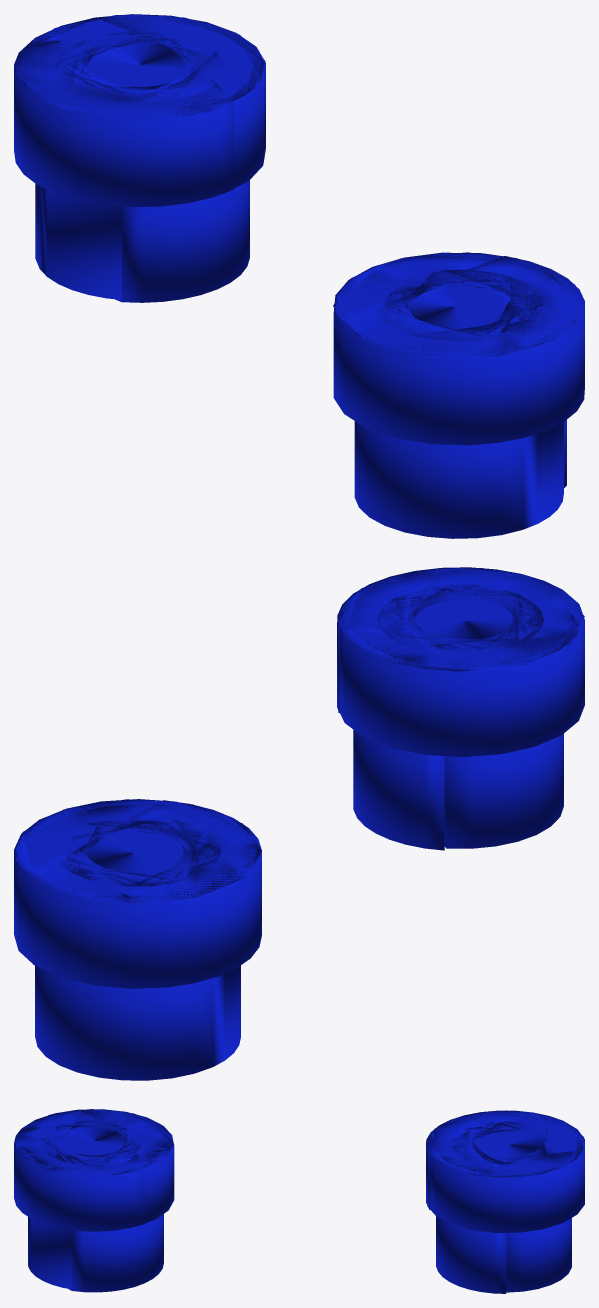
File: tuyeau_element_000069.obj
3 views of the same model, one above another, from view 1: azimuth 30°, elevation 25°; view 2: azimuth 150°, elevation 25°; view 3: azimuth 270°, elevation 25° (orthographic). The views are drawn at different scales.
Visible parts, largest first — view 1: tuyeau1_Cube.014, tuyeau2_Cube.017; view 2: tuyeau2_Cube.017, tuyeau1_Cube.014; view 3: tuyeau2_Cube.017, tuyeau1_Cube.014.
Part boxes in pixels (<box>): tuyeau1_Cube.014: <box>14,14,265,302</box>; tuyeau2_Cube.017: <box>333,252,584,538</box>; tuyeau2_Cube.017: <box>337,567,584,850</box>; tuyeau1_Cube.014: <box>14,799,261,1080</box>; tuyeau2_Cube.017: <box>14,1109,174,1292</box>; tuyeau1_Cube.014: <box>426,1110,584,1293</box>.
Size of the model in its own units: 3590 by 2917 by 12564.
